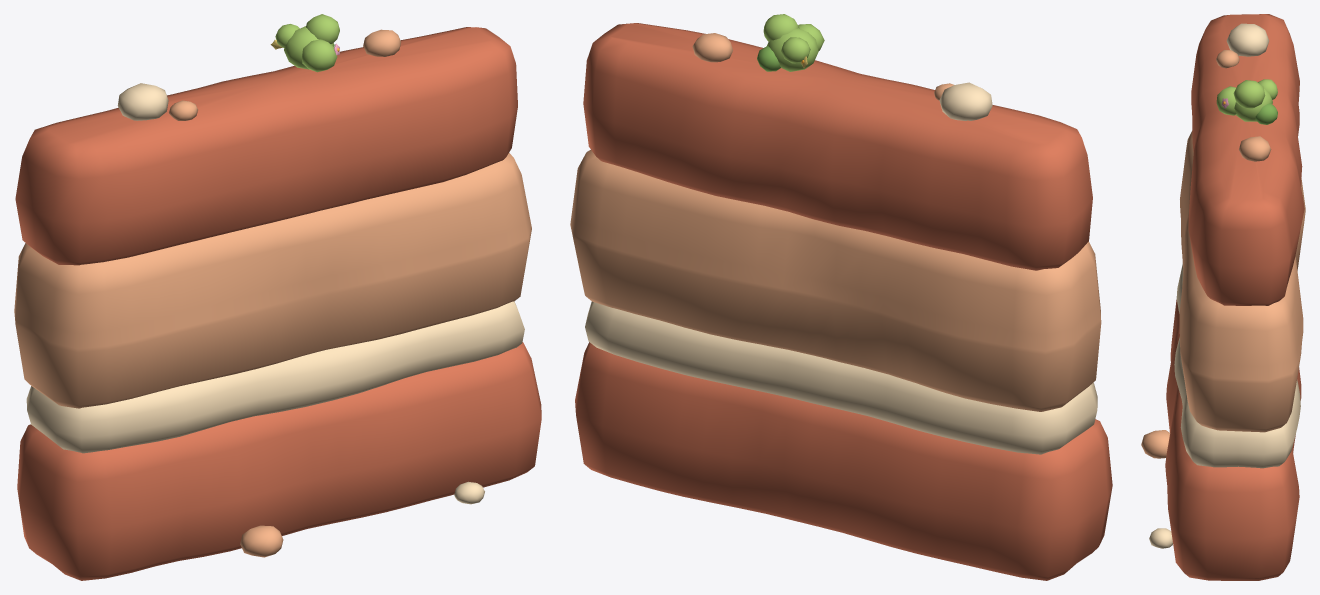
The model's file is prop_canyon_wall.glb.
3 views of the same model, side by side, from view 1: azimuth 30°, elevation 25°; view 2: azimuth 150°, elevation 25°; view 3: azimuth 270°, elevation 25° (orthographic). The views are drawn at different scales.
Parts seen in each view (by area): view 1: prop_canyon_wall; view 2: prop_canyon_wall; view 3: prop_canyon_wall.
Part boxes in pixels (box(x1,y1,x2,y2)): prop_canyon_wall: box(14, 14, 541, 580); prop_canyon_wall: box(570, 14, 1112, 580); prop_canyon_wall: box(1141, 14, 1305, 580).
Size of the model in its own units: 4.25 by 3.9 by 1.38.
